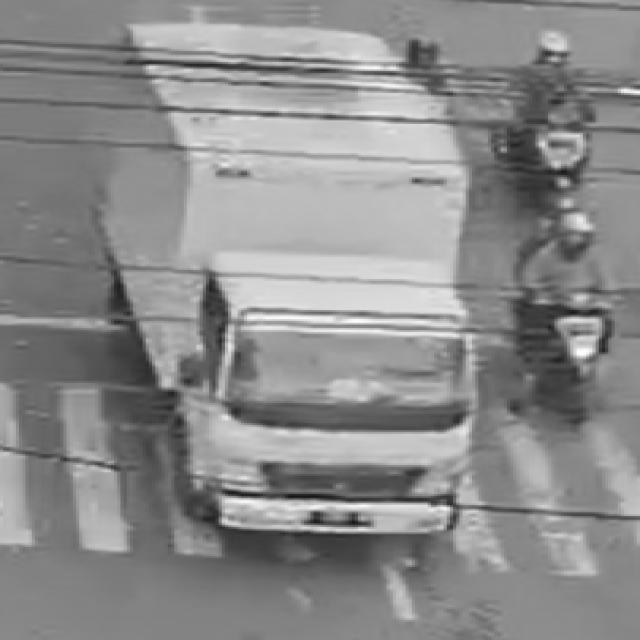Truck: (103, 4, 509, 578)
